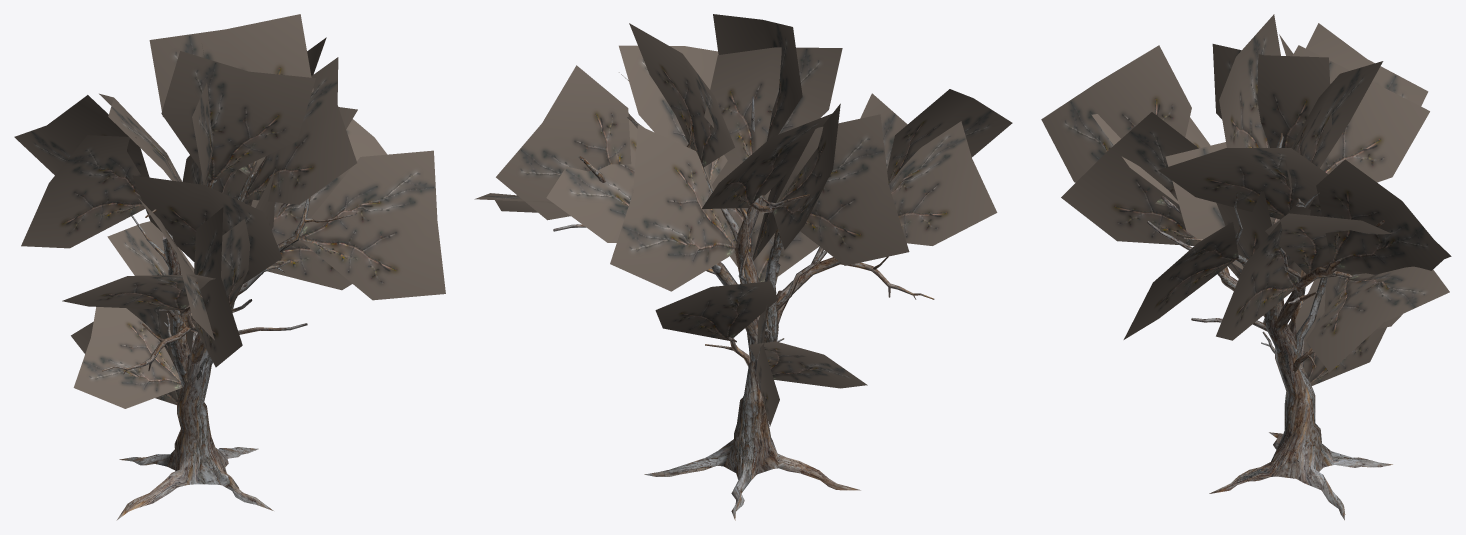
The model's file is Deadtree1.fbx.
3 renders of one model, left to right at view 1: azimuth 30°, elevation 25°; view 2: azimuth 150°, elevation 25°; view 3: azimuth 270°, elevation 25°, orthographic.
Parts seen in each view (by area): view 1: polySurface89; view 2: polySurface89; view 3: polySurface89.
Boxes of the visible parts, bbox=[...] form: polySurface89: bbox=[14, 14, 445, 520]; polySurface89: bbox=[474, 14, 1012, 520]; polySurface89: bbox=[1041, 14, 1451, 520].
Size of the model in its own units: 6.73 by 6.81 by 5.61.
